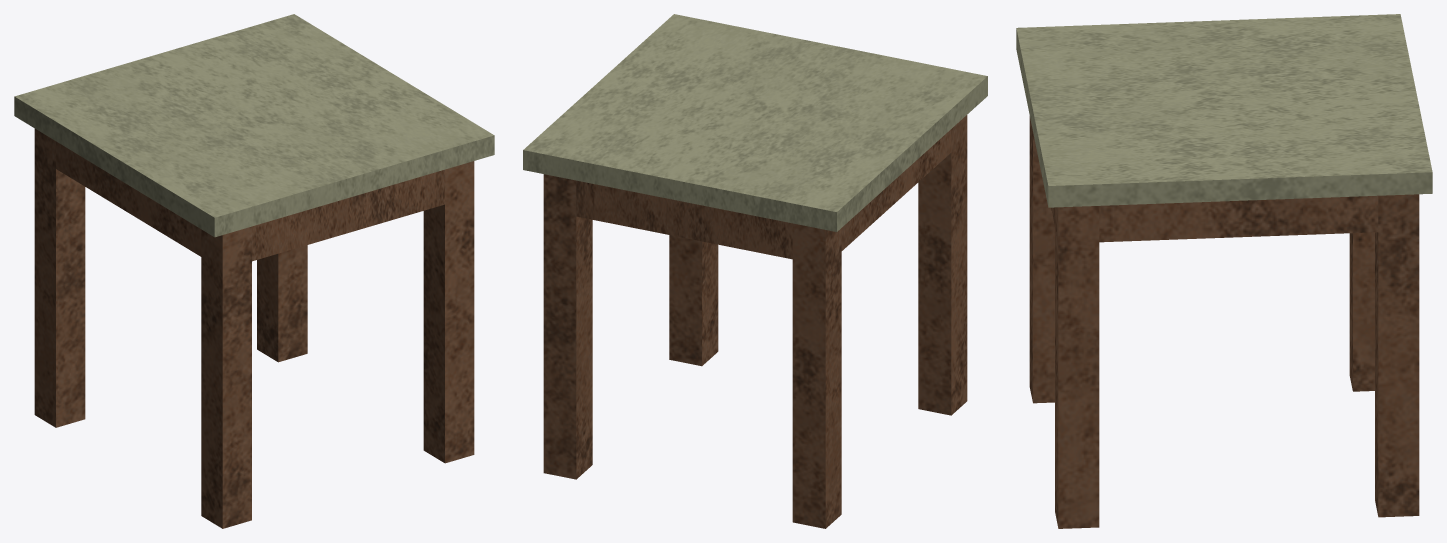
File: Stool.fbx
3 renders of one model, left to right at view 1: azimuth 30°, elevation 25°; view 2: azimuth 150°, elevation 25°; view 3: azimuth 270°, elevation 25°, orthographic. The views are drawn at different scales.
Parts seen in each view (by area): view 1: Cube.070; view 2: Cube.070; view 3: Cube.070.
Part boxes in pixels (box(x1,y1,x2,y2)): Cube.070: box(14, 14, 494, 528); Cube.070: box(523, 14, 987, 528); Cube.070: box(1016, 14, 1432, 528).
Size of the model in its own units: 69.38 by 66.03 by 70.91.
